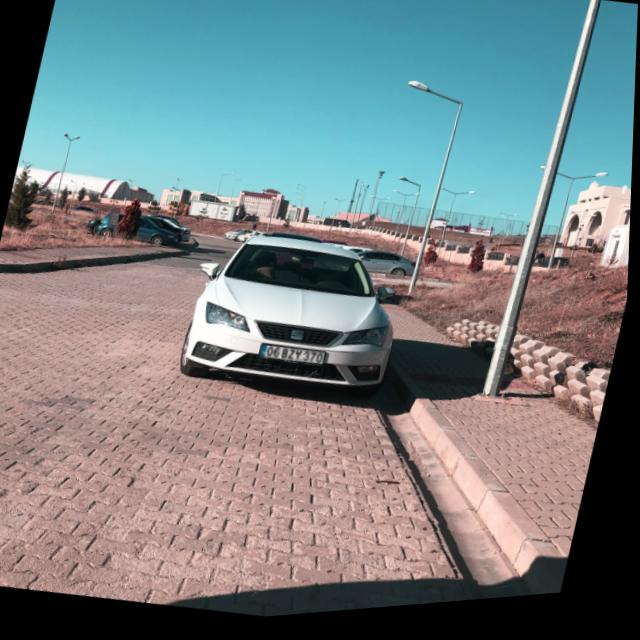license_plate: (261, 346, 329, 374)
